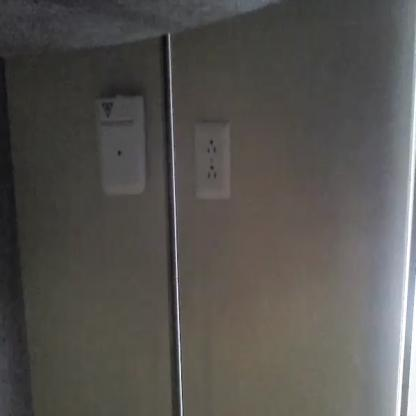OUTLET: (194, 125, 230, 200)
